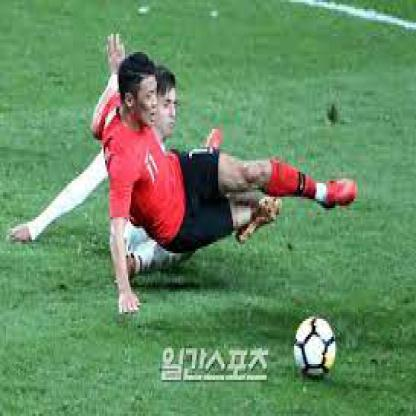Fall_Down: (89, 32, 357, 316)
